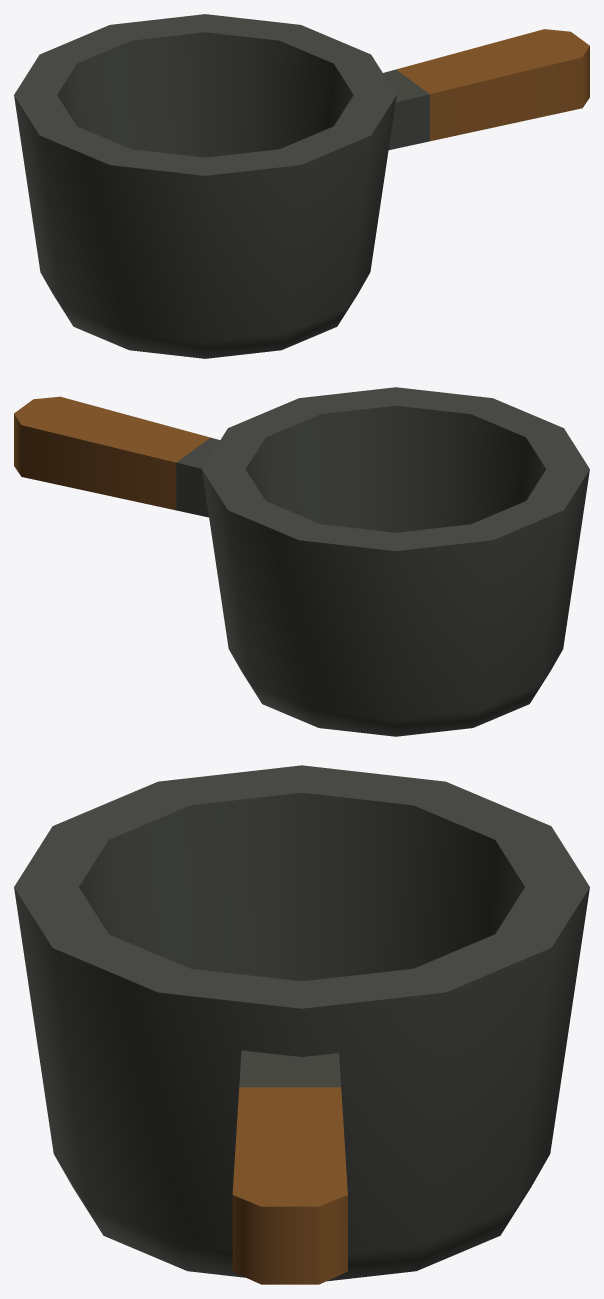
The model's file is SM_Saucepan.fbx.
3 views of the same model, one above another, from view 1: azimuth 30°, elevation 25°; view 2: azimuth 150°, elevation 25°; view 3: azimuth 270°, elevation 25° (orthographic). The views are drawn at different scales.
Visible parts, largest first — view 1: SM_Saucepan; view 2: SM_Saucepan; view 3: SM_Saucepan.
Part boxes in pixels (box(x1,y1,x2,y2)): SM_Saucepan: box(14, 14, 589, 358); SM_Saucepan: box(14, 387, 589, 736); SM_Saucepan: box(14, 765, 589, 1284).
Size of the model in its own units: 35.28 by 12.99 by 21.79.
